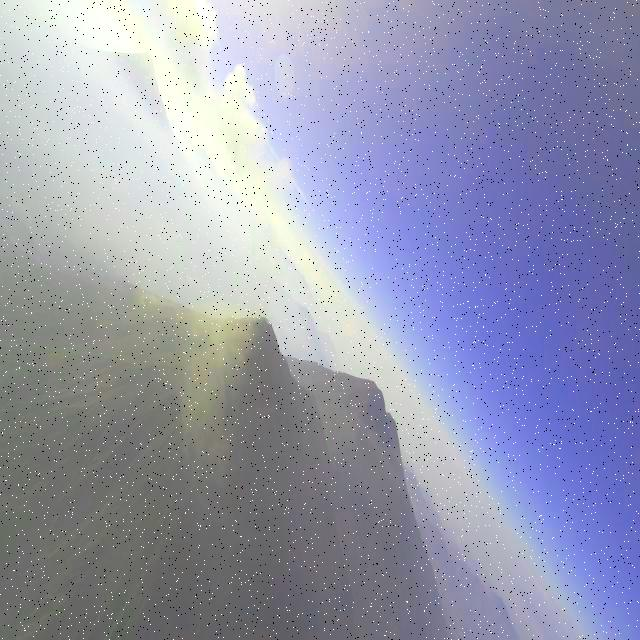Summit: (210, 312, 298, 399)
